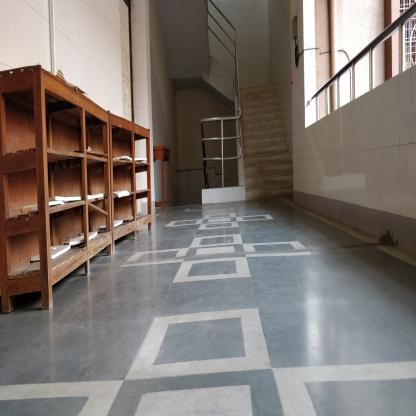stairs: (248, 122, 288, 204)
